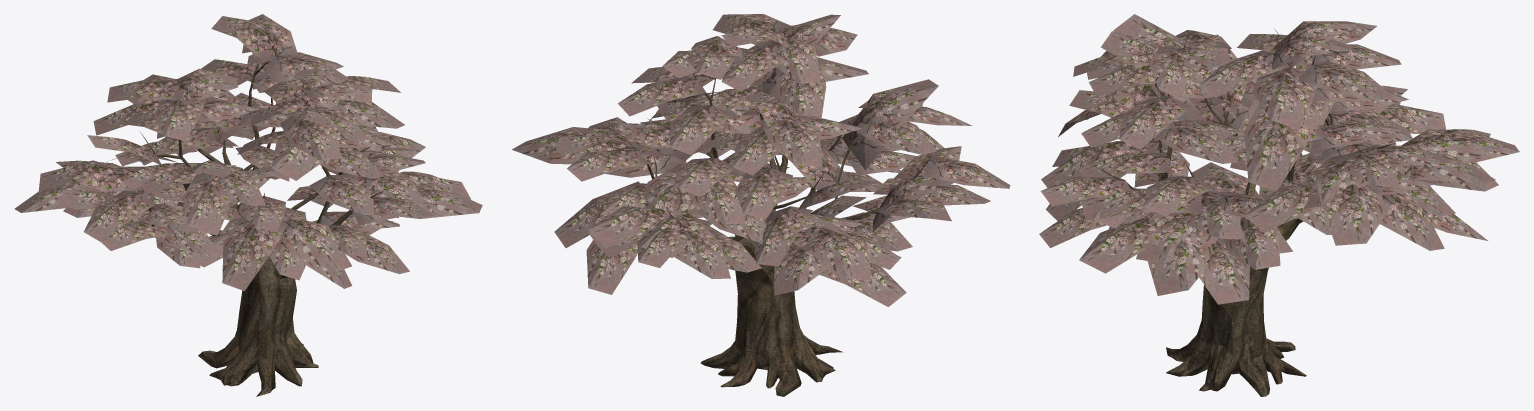
Rendered from bg_anh_tree_cherryblossomtree01d_sm_ysi.FBX.
3 views of the same model, side by side, from view 1: azimuth 30°, elevation 25°; view 2: azimuth 150°, elevation 25°; view 3: azimuth 270°, elevation 25° (orthographic). The views are drawn at different scales.
Parts seen in each view (by area): view 1: bg_anh_tree_cherryblossomtree01d_sm_ysi; view 2: bg_anh_tree_cherryblossomtree01d_sm_ysi; view 3: bg_anh_tree_cherryblossomtree01d_sm_ysi.
Part boxes in pixels (x1,y1,x2,y2): bg_anh_tree_cherryblossomtree01d_sm_ysi: [14, 14, 482, 396]; bg_anh_tree_cherryblossomtree01d_sm_ysi: [512, 14, 1010, 396]; bg_anh_tree_cherryblossomtree01d_sm_ysi: [1039, 14, 1519, 396].
Bounding box in the file's own units: 620 × 485 × 589.
